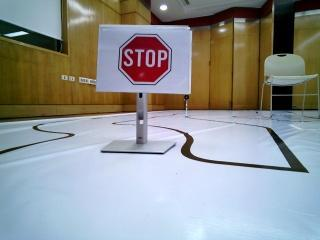stop: (109, 29, 189, 91)
